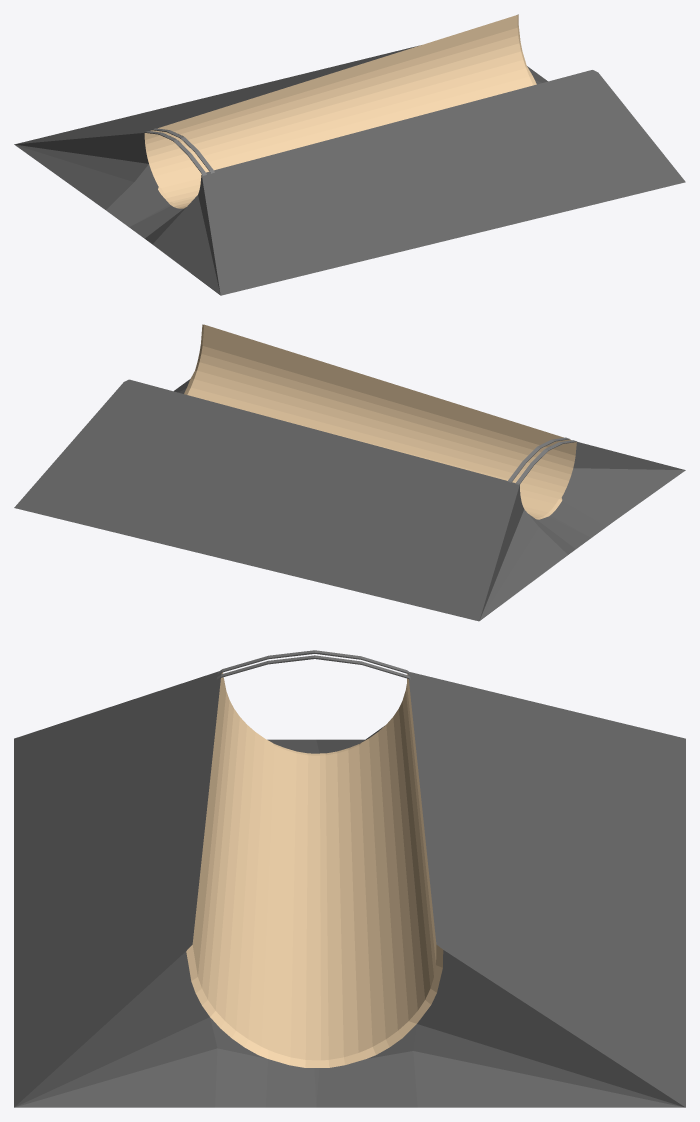
Rendered from halfpipe.fbx.
The picture shows the model from 3 angles, top to bottom: view 1: azimuth 30°, elevation 25°; view 2: azimuth 150°, elevation 25°; view 3: azimuth 270°, elevation 25°; orthographic projection. The views are drawn at different scales.
Parts seen in each view (by area): view 1: pipe; view 2: pipe; view 3: pipe.
Part boxes in pixels (x1,y1,x2,y2): pipe: (14,14,685,295); pipe: (14,324,685,621); pipe: (14,650,685,1107).
Bounding box in the file's own units: 431 × 72.34 × 332.
